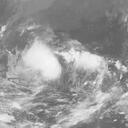cyclone: (22, 37, 62, 83), (70, 49, 104, 74)
